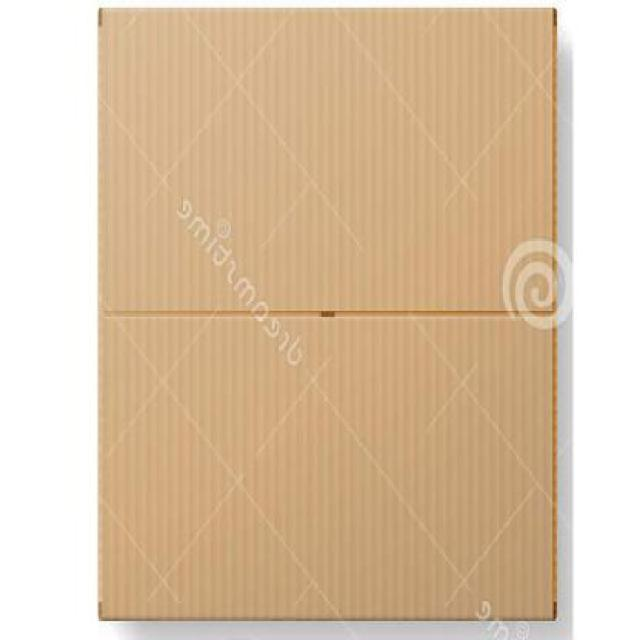cardboxes: (98, 6, 558, 620)
